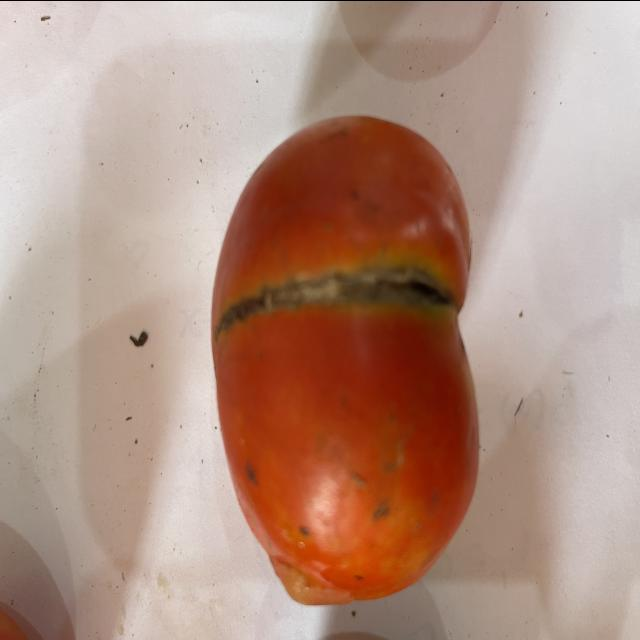tomato_cracking: (218, 257, 477, 337)
